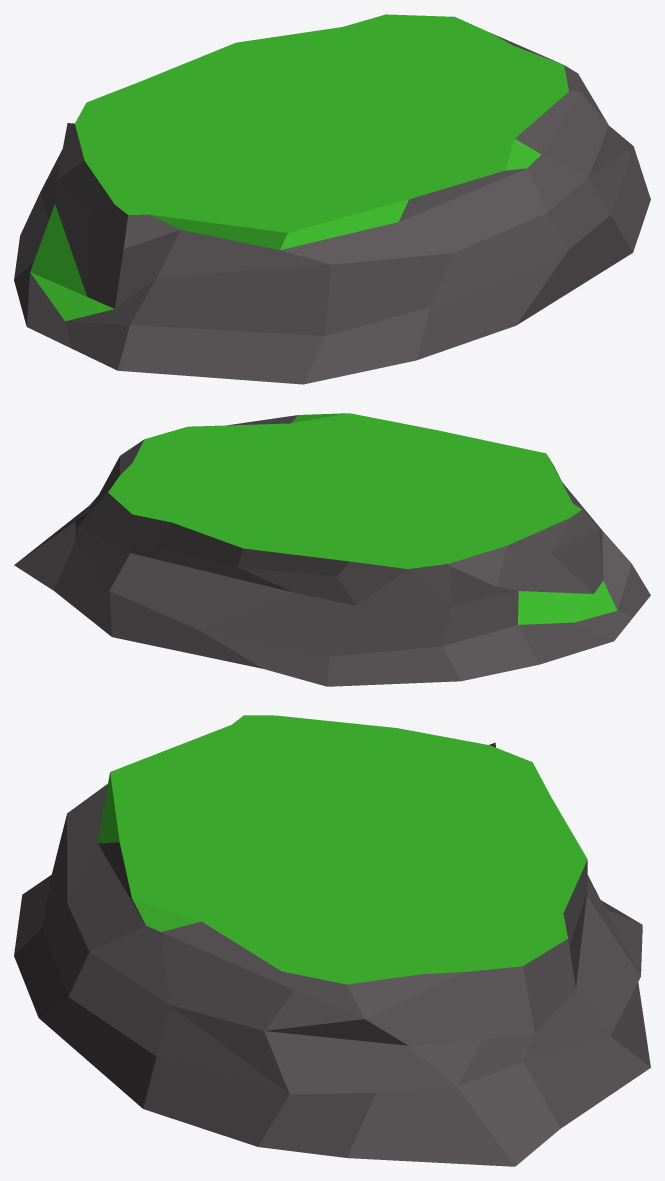
Rendered from platform1.fbx.
3 views of the same model, one above another, from view 1: azimuth 30°, elevation 25°; view 2: azimuth 150°, elevation 25°; view 3: azimuth 270°, elevation 25° (orthographic). The views are drawn at different scales.
Parts seen in each view (by area): view 1: Circle.011; view 2: Circle.011; view 3: Circle.011.
Boxes of the visible parts, x1,y1,x2,y2 form: Circle.011: [14, 14, 650, 384]; Circle.011: [14, 413, 650, 686]; Circle.011: [14, 715, 650, 1166].
Bounding box in the file's own units: 4468 × 794 × 3385.
